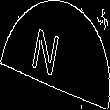N_S: (38, 25, 72, 85)
